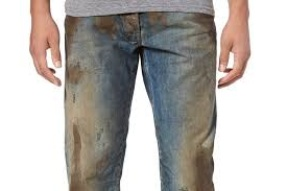earth: (69, 125, 82, 188), (194, 153, 213, 191), (66, 16, 78, 42), (97, 17, 116, 33), (149, 14, 168, 30), (66, 64, 83, 81)
